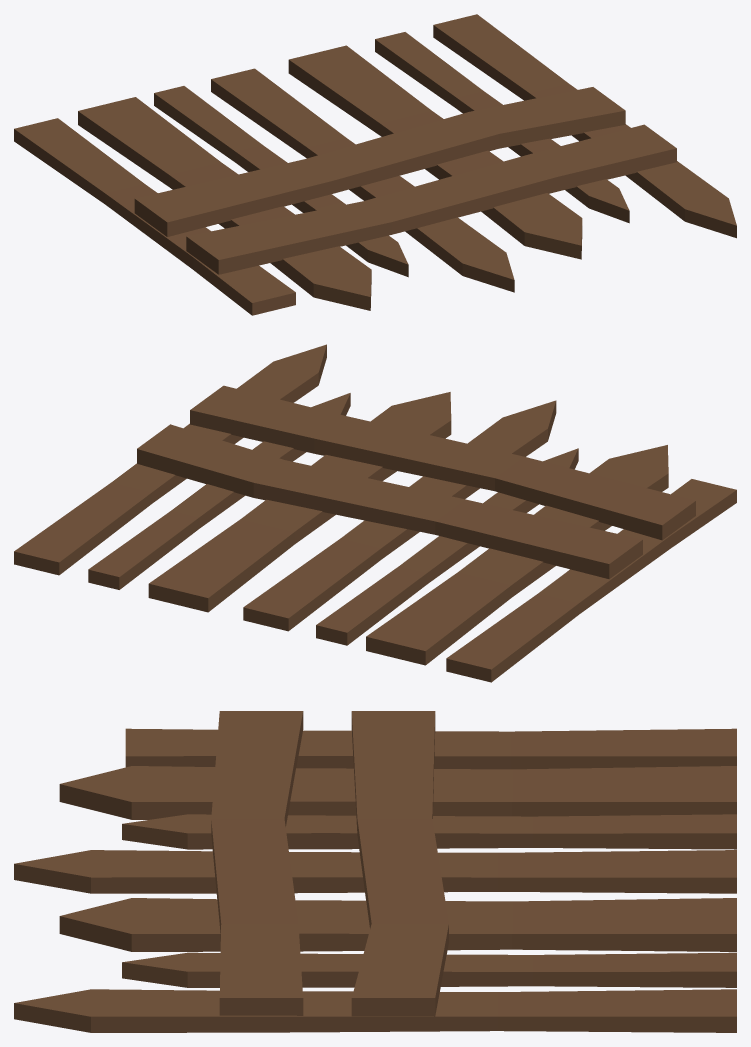
Rendered from Barrier_01_Left.fbx.
3 views of the same model, one above another, from view 1: azimuth 30°, elevation 25°; view 2: azimuth 150°, elevation 25°; view 3: azimuth 270°, elevation 25° (orthographic). The views are drawn at different scales.
Visible parts, largest first — view 1: barriere_1.bord gauche; view 2: barriere_1.bord gauche; view 3: barriere_1.bord gauche.
Part boxes in pixels (<box>): barriere_1.bord gauche: <box>14,14,736,315</box>; barriere_1.bord gauche: <box>14,344,736,682</box>; barriere_1.bord gauche: <box>14,711,736,1032</box>.
Bounding box in the file's own units: 100 × 5.78 × 105.
